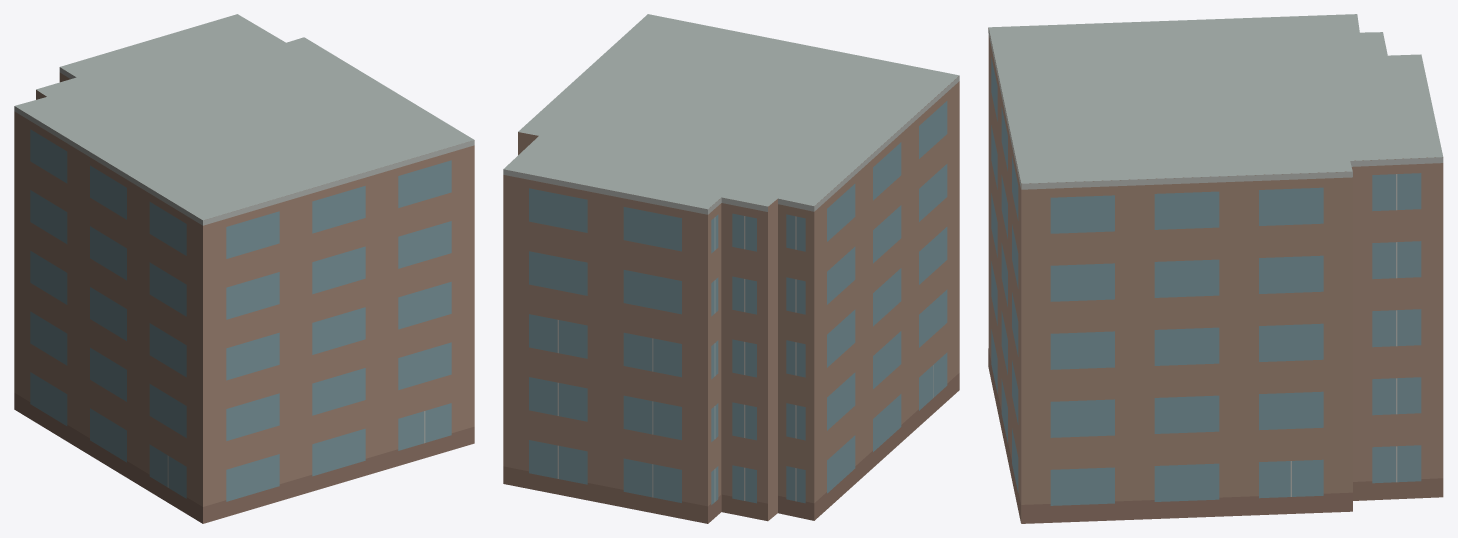
File: survey-upis-33034957.glb
3 renders of one model, left to right at view 1: azimuth 30°, elevation 25°; view 2: azimuth 150°, elevation 25°; view 3: azimuth 270°, elevation 25°, orthographic. The views are drawn at different scales.
Visible parts, largest first — view 1: survey-upis-33034957.tmp; view 2: survey-upis-33034957.tmp; view 3: survey-upis-33034957.tmp.
Boxes of the visible parts, x1,y1,x2,y2 form: survey-upis-33034957.tmp: (14,14,474,523); survey-upis-33034957.tmp: (503,14,959,523); survey-upis-33034957.tmp: (988,14,1443,523).
Bounding box in the file's own units: 14.89 × 13.9 × 16.85.
